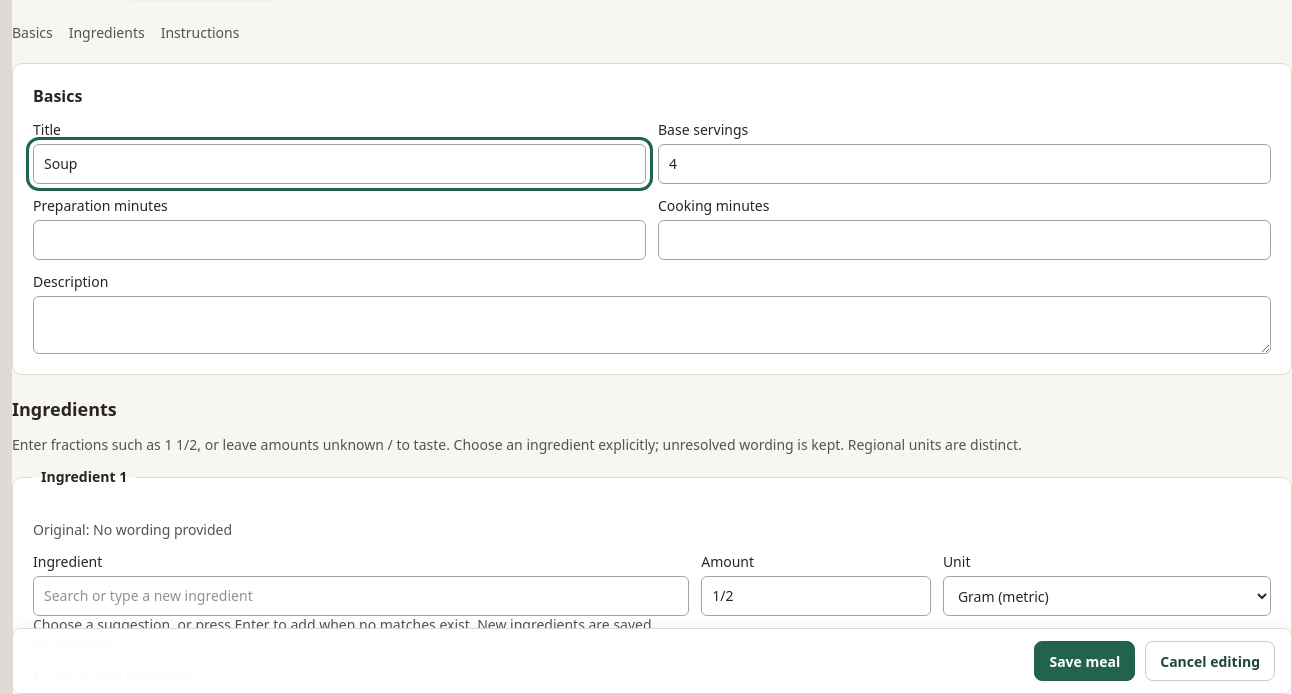
Test case: prevents creating from a failed search and rechecks reserved retired identities before writing
Type "X" into the dropdown labelled "Ingredient" at (361,596), box [33,576,689,616]
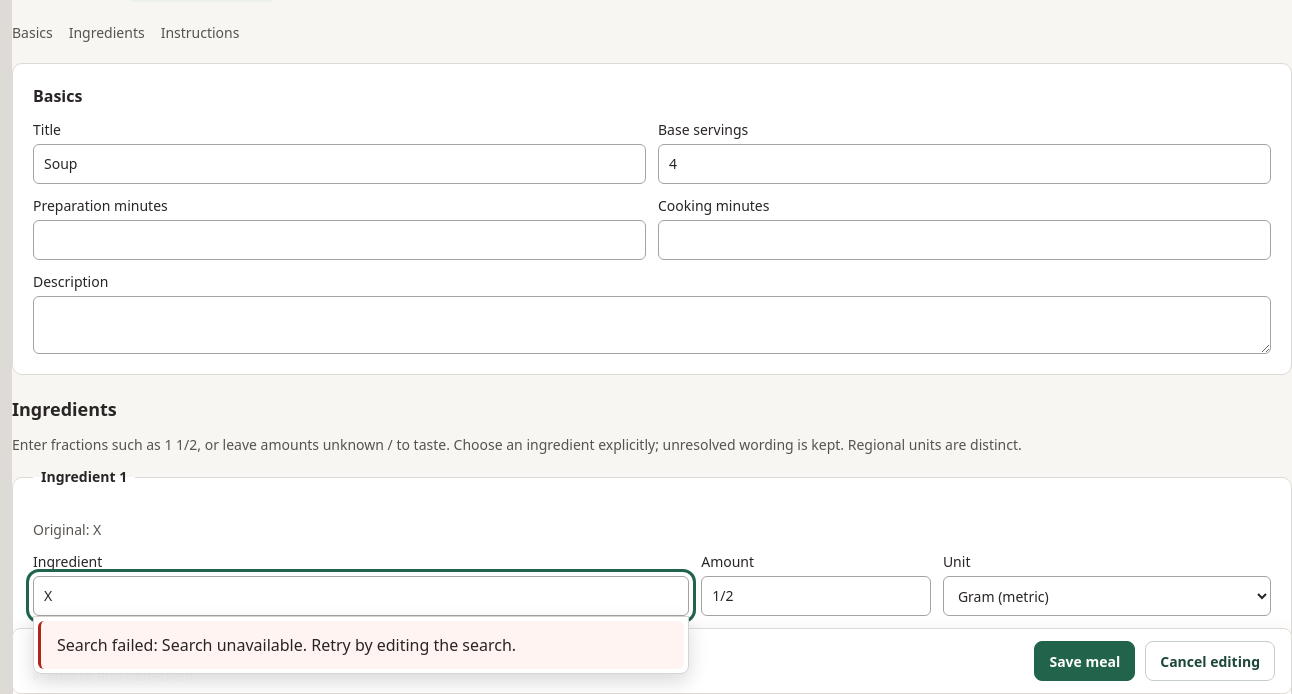
Now the message shows "Search unavailable", box [162,634,303,656]
Press Enter
Type "yz" into the dropdown labelled "Ingredient" at (361,596), box [33,576,689,616]
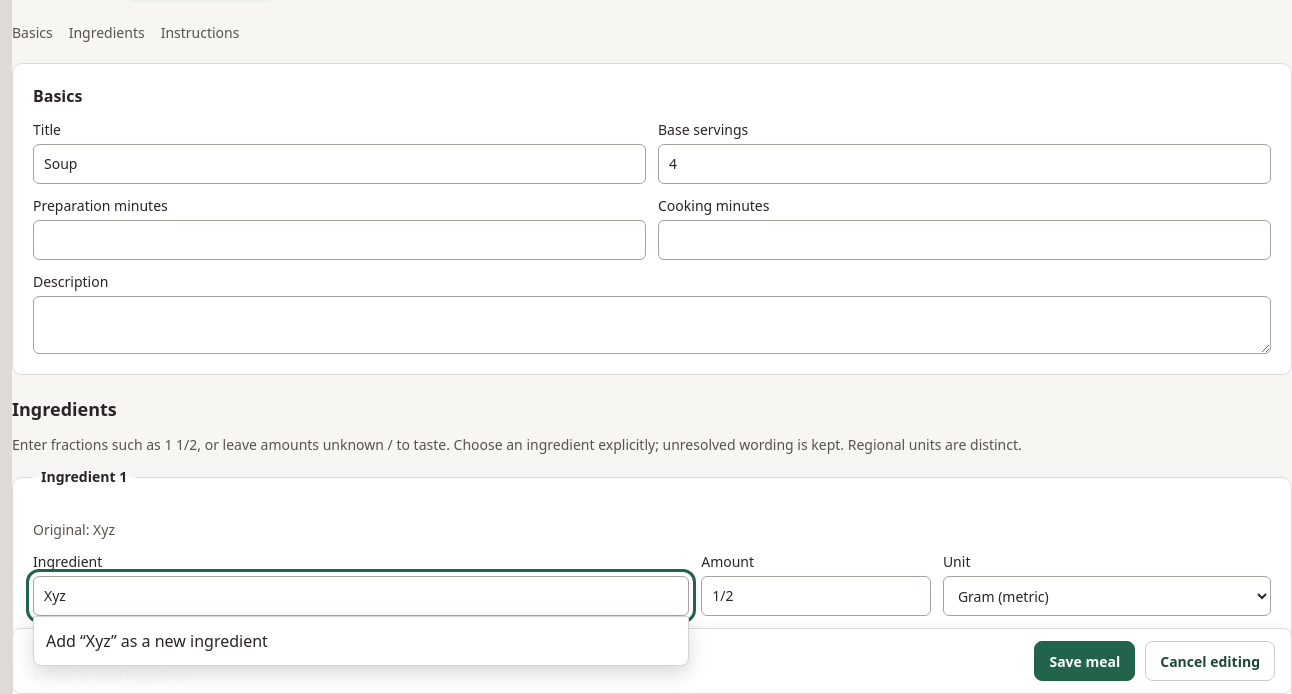
Click the option "as a new ingredient" at (66,641), box [38,621,684,661]
(page scrolled)
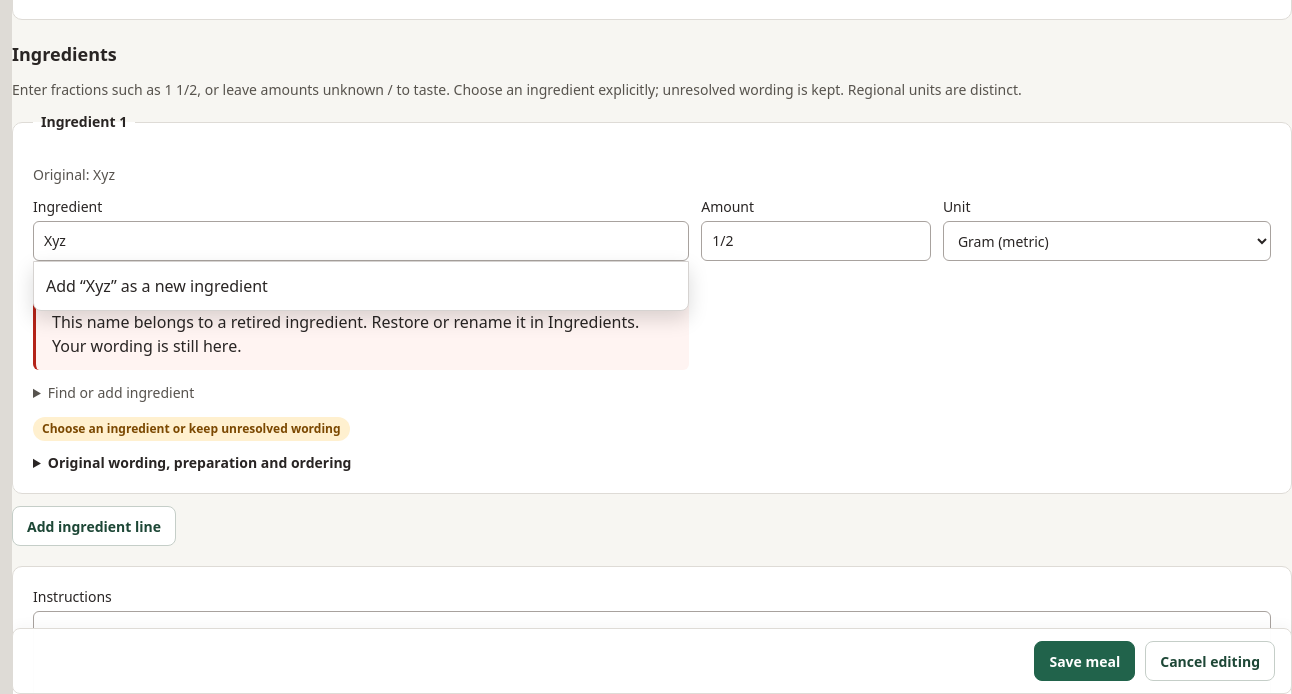
Now the message shows "retired ingredient", box [52,311,639,333]
